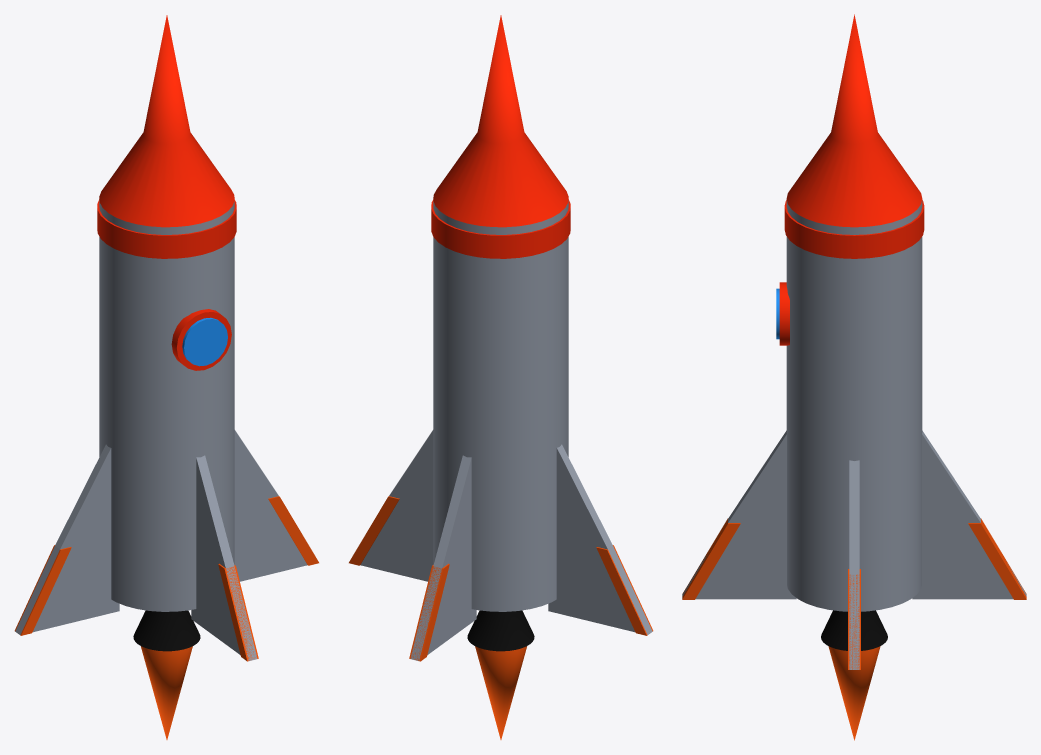
Rendered from Rocket_13_SilverArrow.obj.
The picture shows the model from 3 angles, left to right: view 1: azimuth 30°, elevation 25°; view 2: azimuth 150°, elevation 25°; view 3: azimuth 270°, elevation 25°; orthographic projection.
Visible parts, largest first — view 1: R13_Body, R13_Nose, R13_Fin_2, R13_Fin_3, R13_Fin_4, R13_Band_1, R13_Flame_1, R13_Nozzle_1, R13_Window_1, R13_FinGlow_3, R13_WindowFrame_1, R13_FinGlow_2 (+1 smaller); view 2: R13_Body, R13_Nose, R13_Fin_2, R13_Fin_1, R13_Fin_4, R13_Band_1, R13_Flame_1, R13_Nozzle_1, R13_FinGlow_1, R13_FinGlow_2, R13_FinGlow_4; view 3: R13_Body, R13_Nose, R13_Fin_3, R13_Fin_1, R13_Band_1, R13_Fin_4, R13_Flame_1, R13_Nozzle_1, R13_FinGlow_1, R13_FinGlow_3, R13_FinGlow_4, R13_WindowFrame_1.
Boxes of the visible parts, bbox=[...] form: R13_Body: bbox=[99, 200, 234, 611]; R13_Nose: bbox=[99, 15, 234, 227]; R13_Fin_2: bbox=[15, 444, 119, 634]; R13_Fin_3: bbox=[191, 455, 257, 660]; R13_Fin_4: bbox=[234, 430, 307, 581]; R13_Band_1: bbox=[97, 199, 236, 258]; R13_Flame_1: bbox=[141, 646, 192, 739]; R13_Nozzle_1: bbox=[133, 610, 200, 651]; R13_Window_1: bbox=[182, 317, 227, 366]; R13_FinGlow_3: bbox=[218, 563, 258, 661]; R13_WindowFrame_1: bbox=[171, 309, 231, 370]; R13_FinGlow_2: bbox=[14, 545, 71, 635]; R13_Body: bbox=[433, 200, 568, 611]; R13_Nose: bbox=[433, 15, 568, 227]; R13_Fin_2: bbox=[548, 444, 652, 634]; R13_Fin_1: bbox=[410, 455, 476, 660]; R13_Fin_4: bbox=[360, 430, 433, 581]; R13_Band_1: bbox=[431, 199, 570, 258]; R13_Flame_1: bbox=[475, 646, 526, 739]; R13_Nozzle_1: bbox=[467, 610, 534, 651]; R13_FinGlow_1: bbox=[409, 563, 449, 661]; R13_FinGlow_2: bbox=[596, 545, 653, 635]; R13_FinGlow_4: bbox=[349, 496, 399, 565]; R13_Body: bbox=[786, 200, 922, 611]; R13_Nose: bbox=[786, 14, 922, 227]; R13_Fin_3: bbox=[682, 430, 796, 599]; R13_Fin_1: bbox=[912, 430, 1026, 599]; R13_Band_1: bbox=[784, 200, 924, 258]; R13_Fin_4: bbox=[849, 460, 859, 669]; R13_Flame_1: bbox=[828, 646, 880, 740]; R13_Nozzle_1: bbox=[821, 610, 887, 650]; R13_FinGlow_1: bbox=[968, 518, 1026, 599]; R13_FinGlow_3: bbox=[682, 518, 740, 599]; R13_FinGlow_4: bbox=[848, 569, 860, 669]; R13_WindowFrame_1: bbox=[779, 282, 789, 345].
Size of the model in its own units: 4.06 by 9.45 by 4.06.
